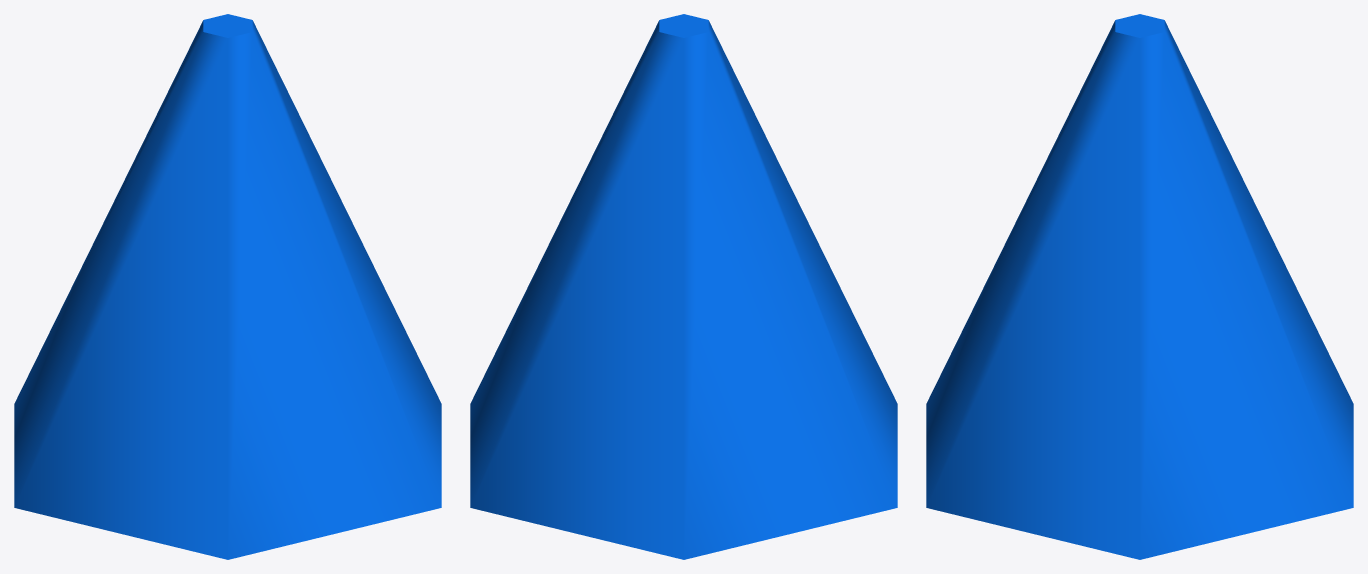
File: Castle_Block_F2.FBX
3 views of the same model, side by side, from view 1: azimuth 30°, elevation 25°; view 2: azimuth 150°, elevation 25°; view 3: azimuth 270°, elevation 25° (orthographic).
Parts seen in each view (by area): view 1: Castle_Block_F; view 2: Castle_Block_F; view 3: Castle_Block_F.
Part boxes in pixels (<box>): Castle_Block_F: <box>14,14,441,559</box>; Castle_Block_F: <box>470,14,897,559</box>; Castle_Block_F: <box>926,14,1353,559</box>.
Bounding box in the file's own units: 26 × 25 × 22.52.
